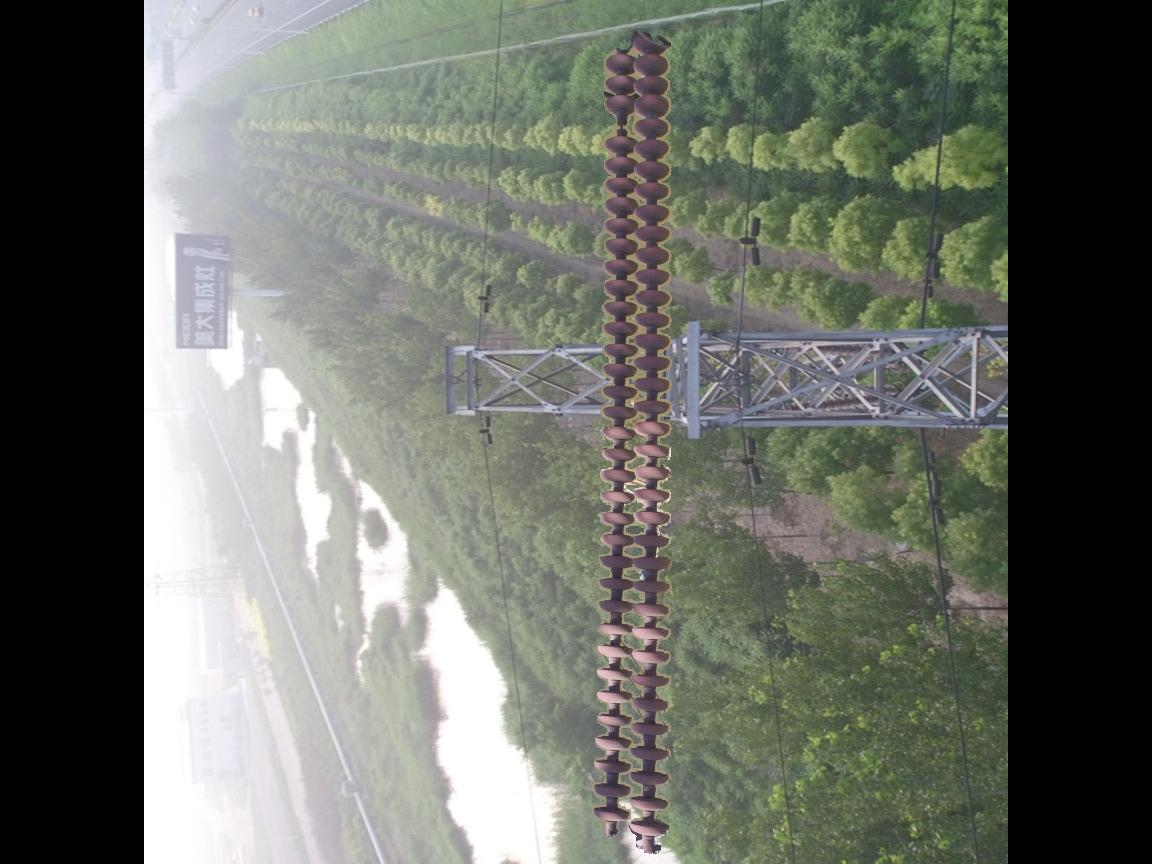insulator: (584, 25, 678, 853)
insulator_stringdrop: (599, 92, 639, 156)
